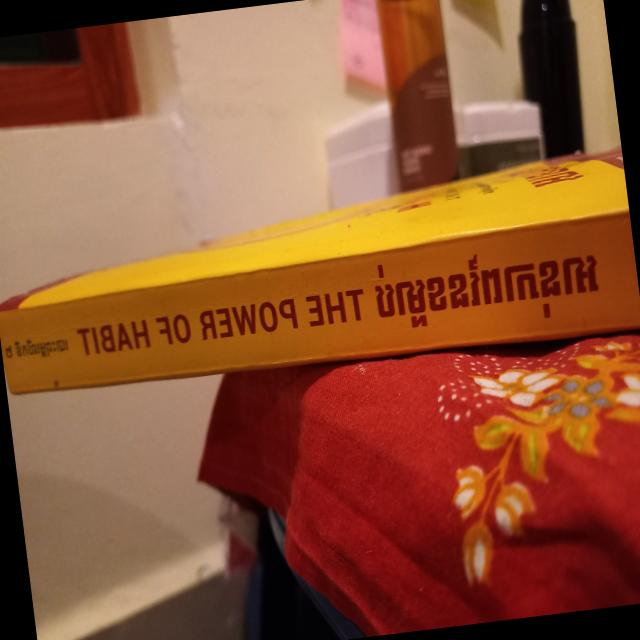893: (3, 328, 71, 365)
Yolov11kh: (366, 224, 605, 347)
